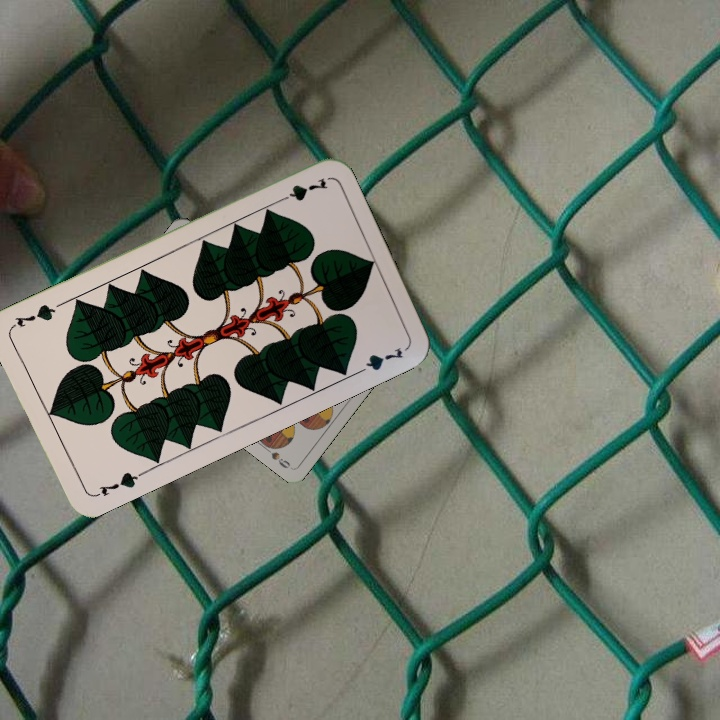G7: (272, 173, 330, 206), (90, 468, 146, 500)
